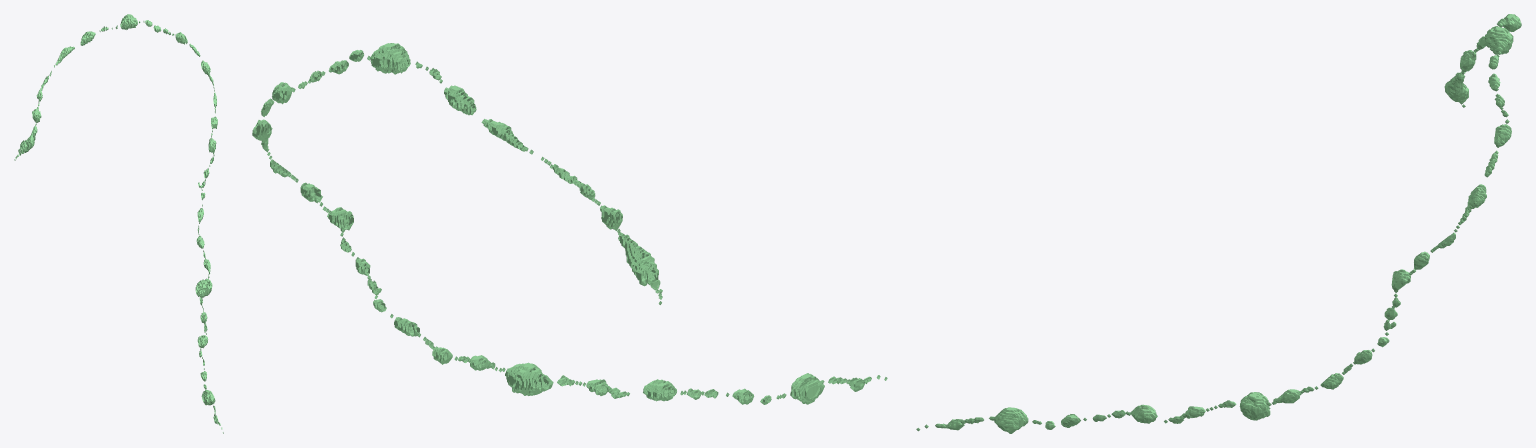
Rendered from SVV_HSNR.gltf.
3 renders of one model, left to right at view 1: azimuth 30°, elevation 25°; view 2: azimuth 150°, elevation 25°; view 3: azimuth 270°, elevation 25°, orthographic. The views are drawn at different scales.
Parts seen in each view (by area): view 1: HSNR; view 2: HSNR; view 3: HSNR.
Boxes of the visible parts, x1=… form: HSNR: x1=14, y1=14, x2=223, y2=433; HSNR: x1=252, y1=43, x2=887, y2=404; HSNR: x1=916, y1=14, x2=1521, y2=433.
Size of the model in its own units: 120278 by 158308 by 186240.
